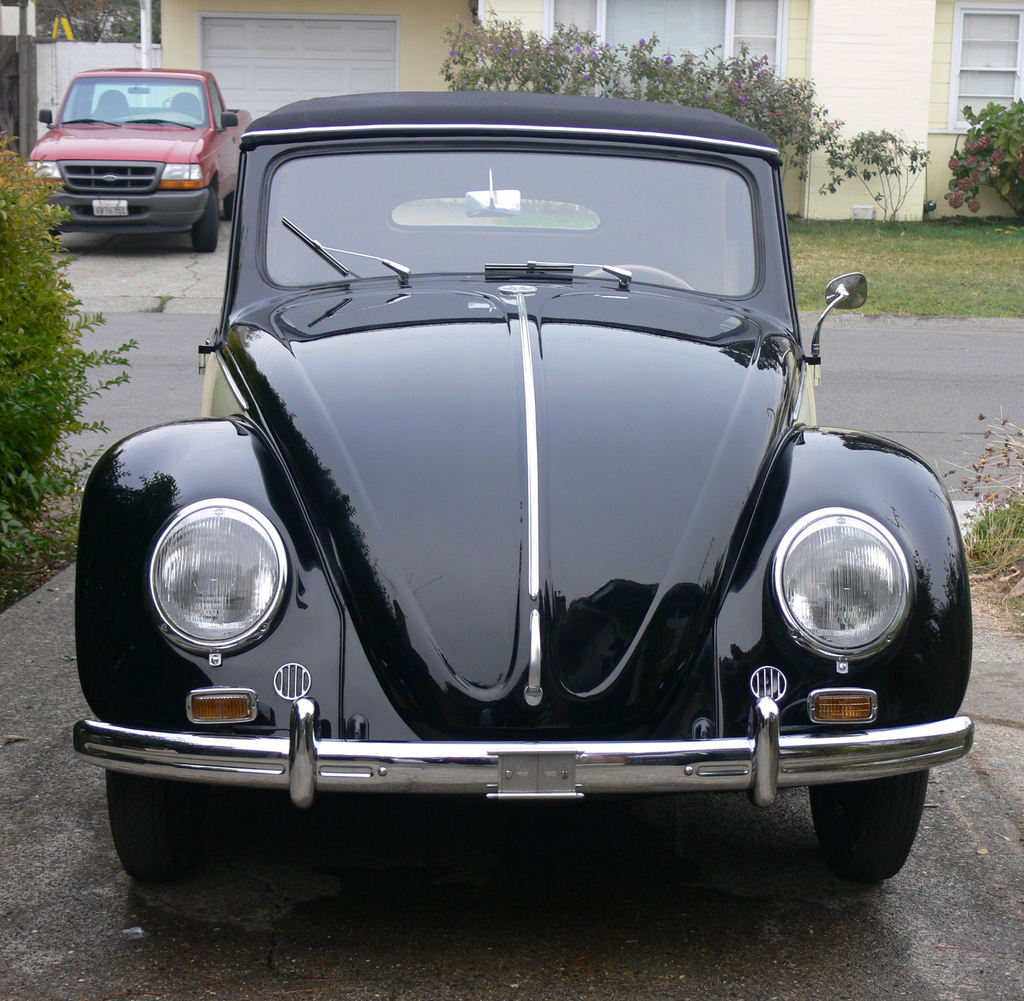Car: (48, 92, 953, 922)
